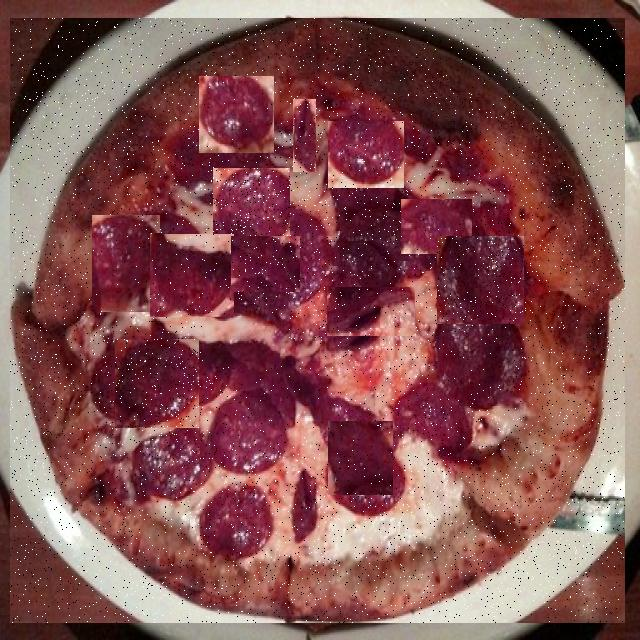Pepperoni: (231, 344, 334, 440), (437, 236, 524, 324), (115, 339, 199, 428), (150, 234, 234, 317), (436, 324, 518, 408), (92, 215, 160, 314), (214, 168, 292, 248), (337, 360, 430, 426), (134, 137, 211, 215), (199, 76, 274, 153), (328, 121, 404, 188), (328, 421, 393, 495), (327, 287, 415, 336), (205, 314, 285, 365), (401, 199, 472, 254), (231, 236, 300, 292), (324, 188, 398, 236), (294, 99, 318, 172)
Pizza: (10, 18, 625, 623)
